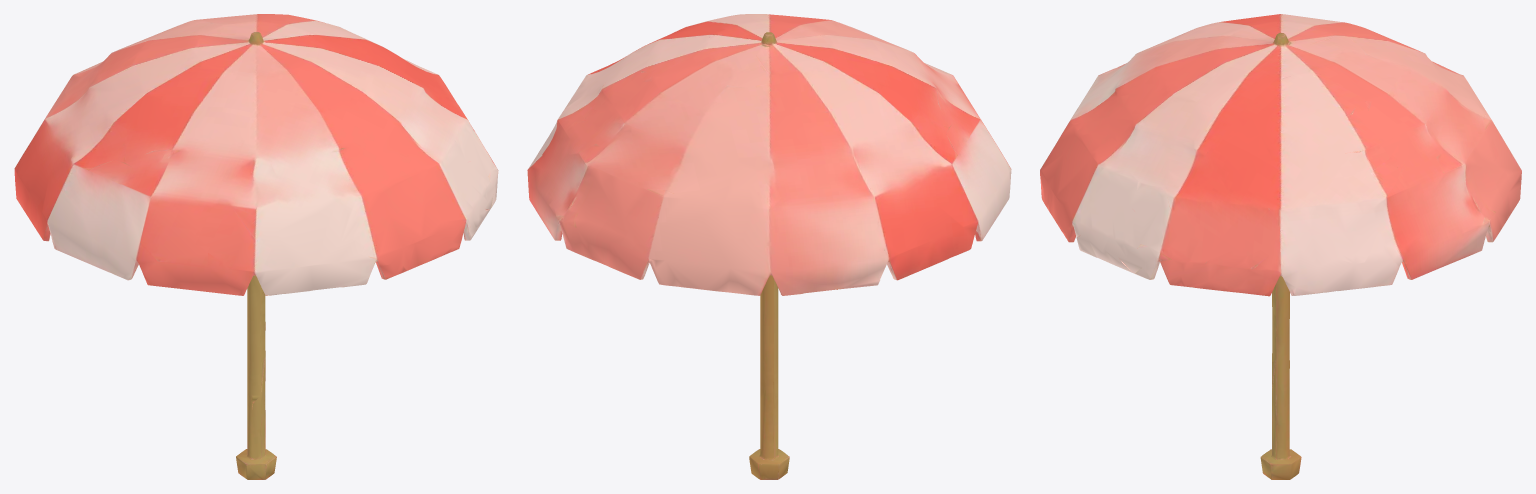
File: umbrella.glb
The picture shows the model from 3 angles, left to right: view 1: azimuth 30°, elevation 25°; view 2: azimuth 150°, elevation 25°; view 3: azimuth 270°, elevation 25°; orthographic projection.
Parts seen in each view (by area): view 1: Mesh_0; view 2: Mesh_0; view 3: Mesh_0.
Part boxes in pixels (left/top/right/bottom): Mesh_0: left=14, top=14, right=498, bottom=479; Mesh_0: left=527, top=14, right=1011, bottom=479; Mesh_0: left=1040, top=14, right=1521, bottom=479.
Bounding box in the file's own units: 1.9 × 1.91 × 1.9.
Materials: 1 (1 with a texture image).
